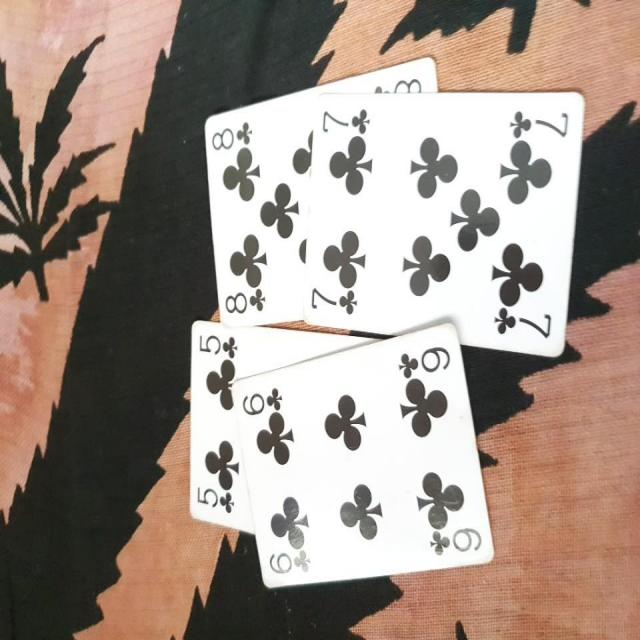5 Trefoils: (187, 320, 390, 540)
6 Trefoils: (230, 320, 495, 591)
7 Trefoils: (298, 87, 586, 360)
8 Trefoils: (200, 59, 440, 322)
